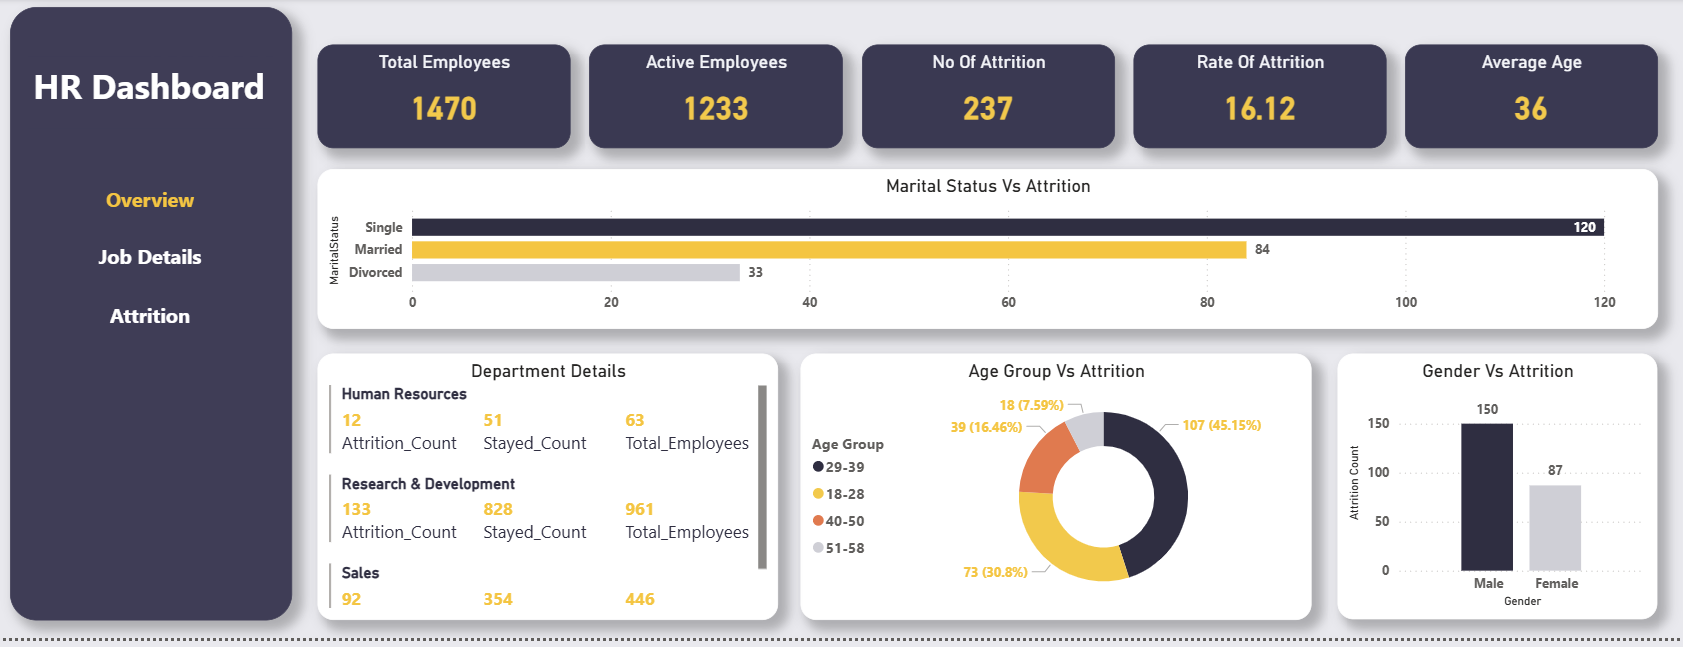

The dashboard page shown, as its layout file describes it:
{"tool":"powerbi","page":{"name":"Overview","canvas":[1600,600],"ordinal":0},"visuals":[{"type":"card","title":"Total Employees","fields":{"Values":["Sum(overall_summary.Total_Employees)"]},"box":[319,43.7,237,97],"z":0},{"type":"card","title":"No Of Attrition","fields":{"Values":["Sum(overall_summary.Total_Attrition)"]},"box":[830,43.7,237,97],"z":1000},{"type":"card","title":"Rate Of Attrition","fields":{"Values":["Sum(overall_summary.Attrition_Rate_%)"]},"box":[1085,43.7,237,97],"z":2000},{"type":"card","title":"Active Employees","fields":{"Values":["Sum(Dept_summary.Stayed_Count)"]},"box":[574,43.7,238,97],"z":3000},{"type":"card","title":"Average Age","fields":{"Values":["Median(WA_Fn-UseC_-HR-Employee-Attrition.Age)"]},"box":[1339,43.7,237,97],"z":4000},{"type":"columnChart","title":"Gender Vs Attrition","fields":{"Category":["Gender vs Attrition.Gender"],"Y":["Sum(Gender vs Attrition.Attrition_count)"]},"box":[1276,333,300,249],"z":5000},{"type":"donutChart","title":"Age Group Vs Attrition","fields":{"Category":["Age group vs Attrition.Age_group"],"Y":["Sum(Age group vs Attrition.Attrition_count)"]},"box":[773,333,479,250],"z":6000},{"type":"multiRowCard","title":"Department Details","fields":{"Values":["Dept_summary.Department","Dept_summary.Attrition_Count","Dept_summary.Stayed_Count","Dept_summary.Total_Employees"]},"box":[319,333,432,250],"z":7000},{"type":"clusteredBarChart","title":"Marital Status Vs Attrition","fields":{"Category":["Marital_status vs Arrition.MaritalStatus"],"Y":["Sum(Marital_status vs Arrition.Attrition_count)"]},"box":[319,161,1257,150],"z":8000},{"type":"shape","box":[30.9,8.4,264.5,575.4],"z":9000},{"type":"textbox","box":[47.8,54.9,229.3,67.5],"z":10000},{"type":"actionButton","box":[47.3,160.9,229,54.9],"z":11000},{"type":"actionButton","box":[47.1,215.7,228.6,52.9],"z":12000},{"type":"actionButton","box":[47.1,264.3,228.6,64.3],"z":13000}]}

Visuals, with their boxes in screenshot pixels (x1, y1, x2, y2), scaled from the page's 1600x600 canvas onto the 1683x647 screenshot:
"Total Employees" card: <region>336, 47, 585, 152</region>
"No Of Attrition" card: <region>873, 47, 1122, 152</region>
"Rate Of Attrition" card: <region>1141, 47, 1391, 152</region>
"Active Employees" card: <region>604, 47, 854, 152</region>
"Average Age" card: <region>1408, 47, 1658, 152</region>
"Gender Vs Attrition" columnChart: <region>1342, 359, 1658, 628</region>
"Age Group Vs Attrition" donutChart: <region>813, 359, 1317, 629</region>
"Department Details" multiRowCard: <region>336, 359, 790, 629</region>
"Marital Status Vs Attrition" clusteredBarChart: <region>336, 174, 1658, 335</region>
shape: <region>33, 9, 311, 630</region>
textbox: <region>50, 59, 291, 132</region>
actionButton: <region>50, 174, 291, 233</region>
actionButton: <region>50, 233, 290, 290</region>
actionButton: <region>50, 285, 290, 354</region>
